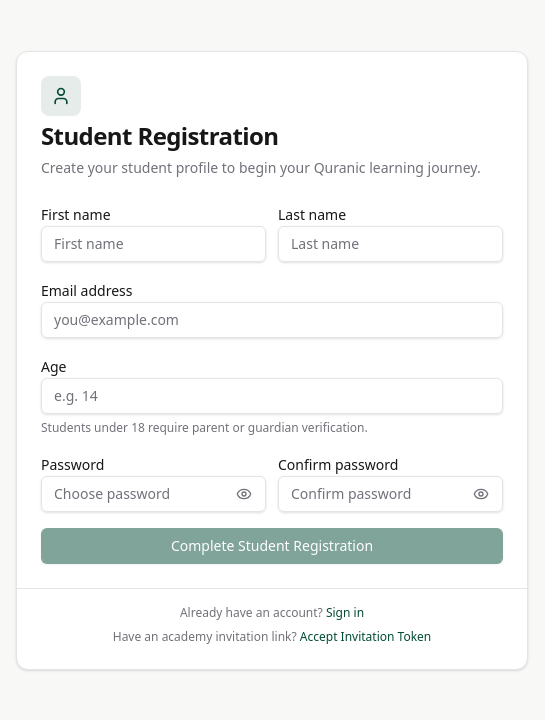
Test: RegisterPage › prevents submission when passwords do not match
In the field labelled "First name": (154,244) [41,226,266,262], type "Ali"
In the field labelled "Last name": (390,244) [278,226,503,262], type "Khan"
In the field labelled "Email address": (272,320) [41,302,503,338], type "ali@example.com"
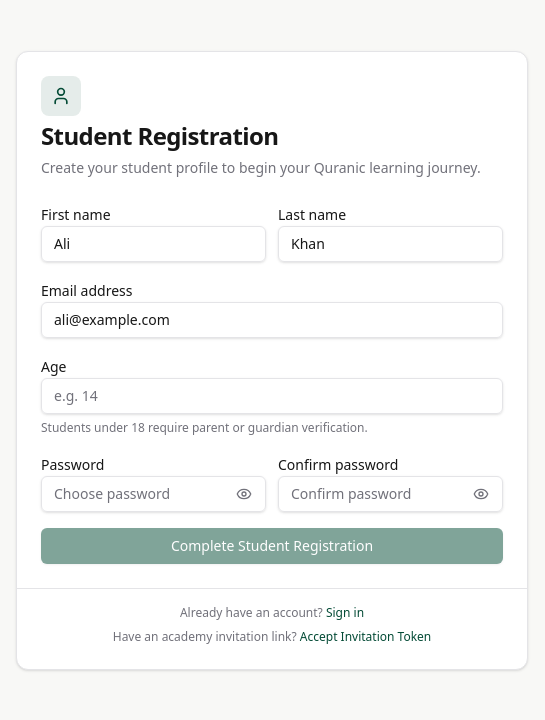
In the field labelled "Age": (272,396) [41,378,503,414], type "15"
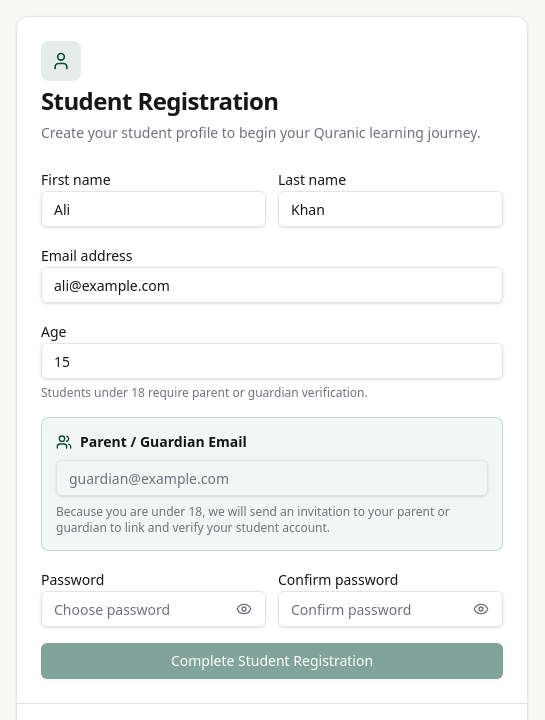
In the field labelled "Parent / Guardian Email": (272,478) [56,460,488,496], type "parent@example.com"
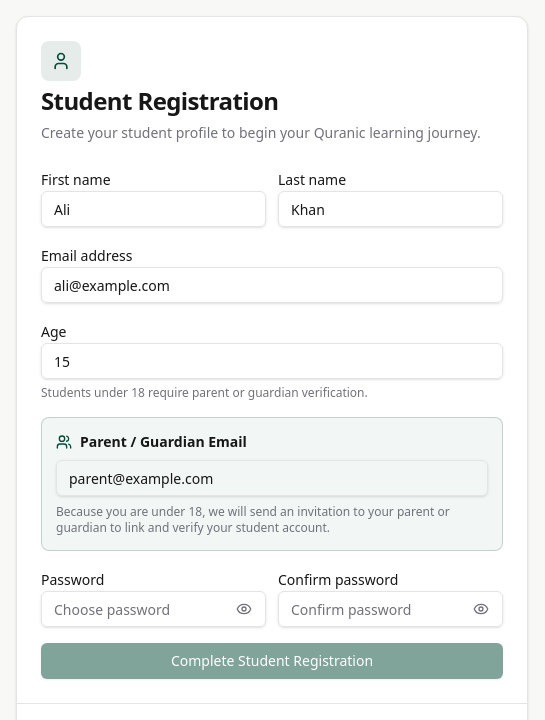
In the password field labelled "Password": (154,609) [41,591,266,627], type "Password123!"
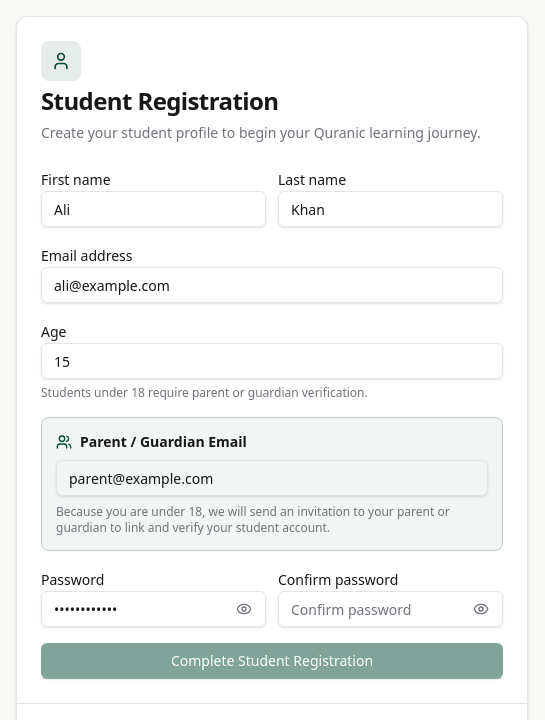
In the password field labelled "Confirm password": (390,609) [278,591,503,627], type "DifferentPassword123!"
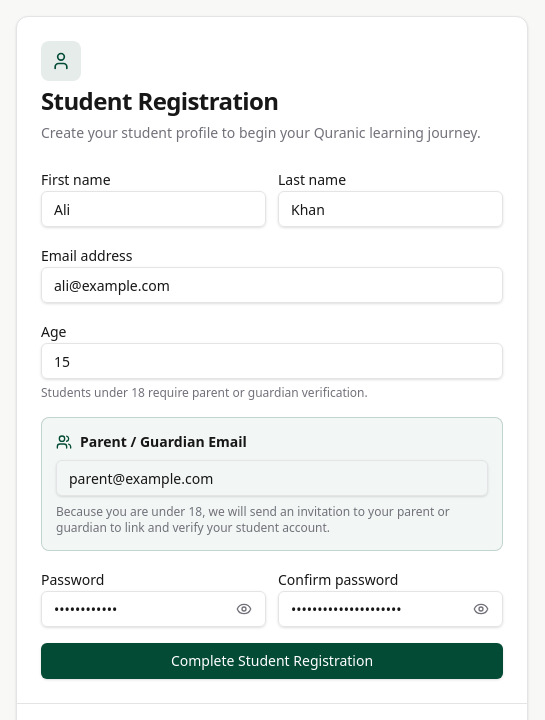
Click the button "Complete Student Registration": (272,661) [41,643,503,679]
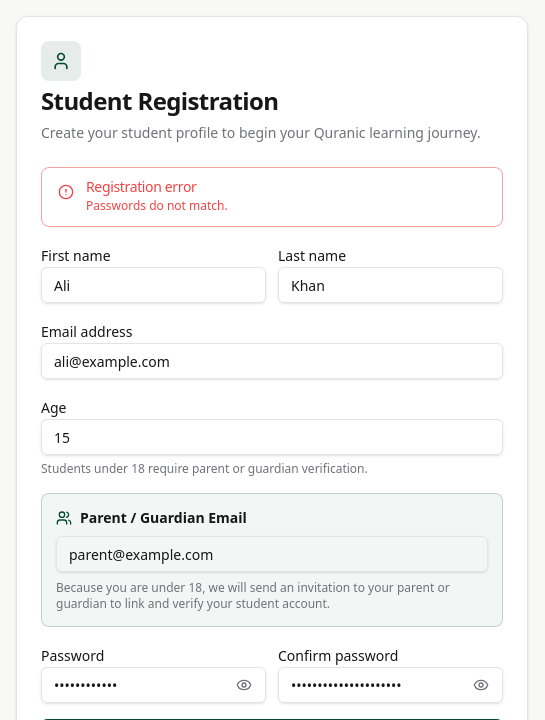
Result: the text "Passwords do not match." is shown at [86,197,228,214]
